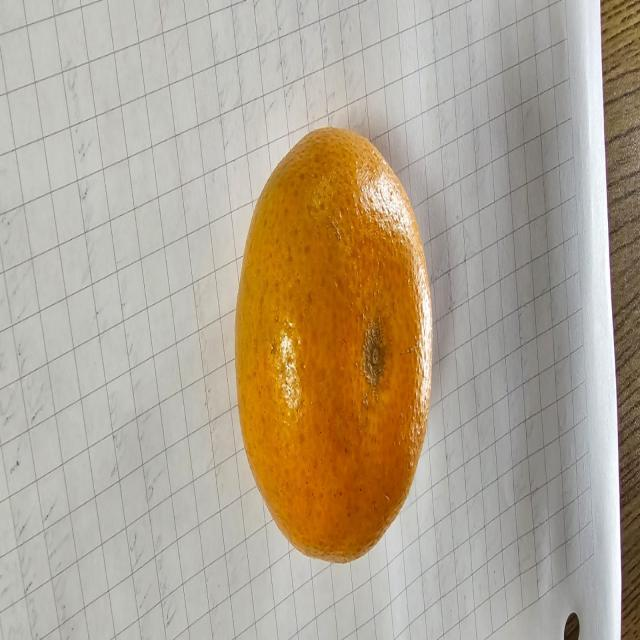Jeruk Mandarin: (230, 119, 440, 571)
